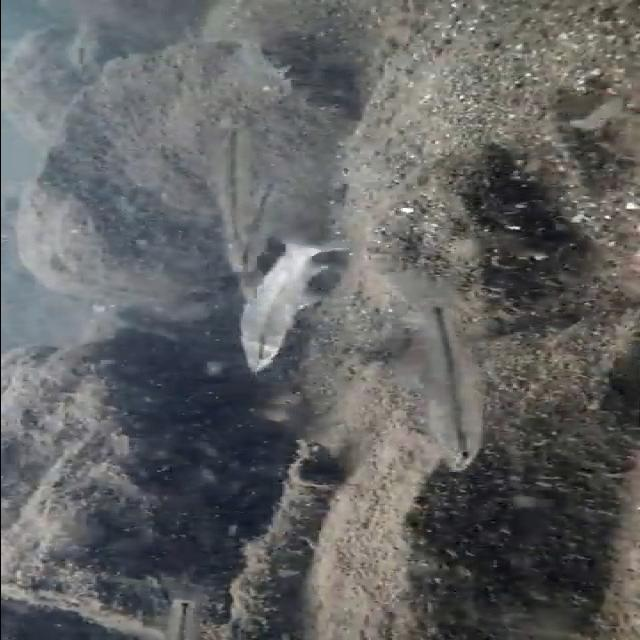Cakil Baligi: (376, 274, 488, 474), (226, 240, 342, 366), (190, 119, 274, 277)
